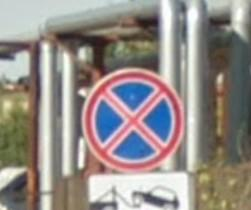No Parking: (82, 68, 185, 173)
